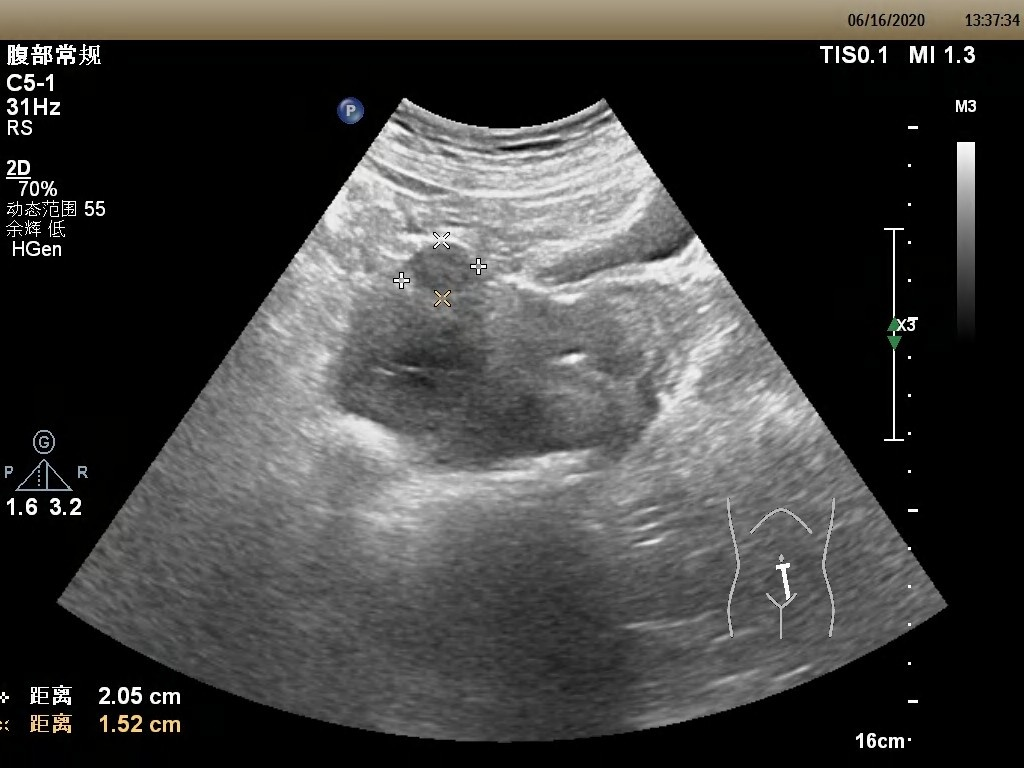肌瘤: (403, 245, 476, 292)
